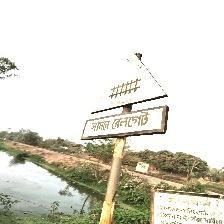Rail-crossing: (82, 54, 170, 141)
